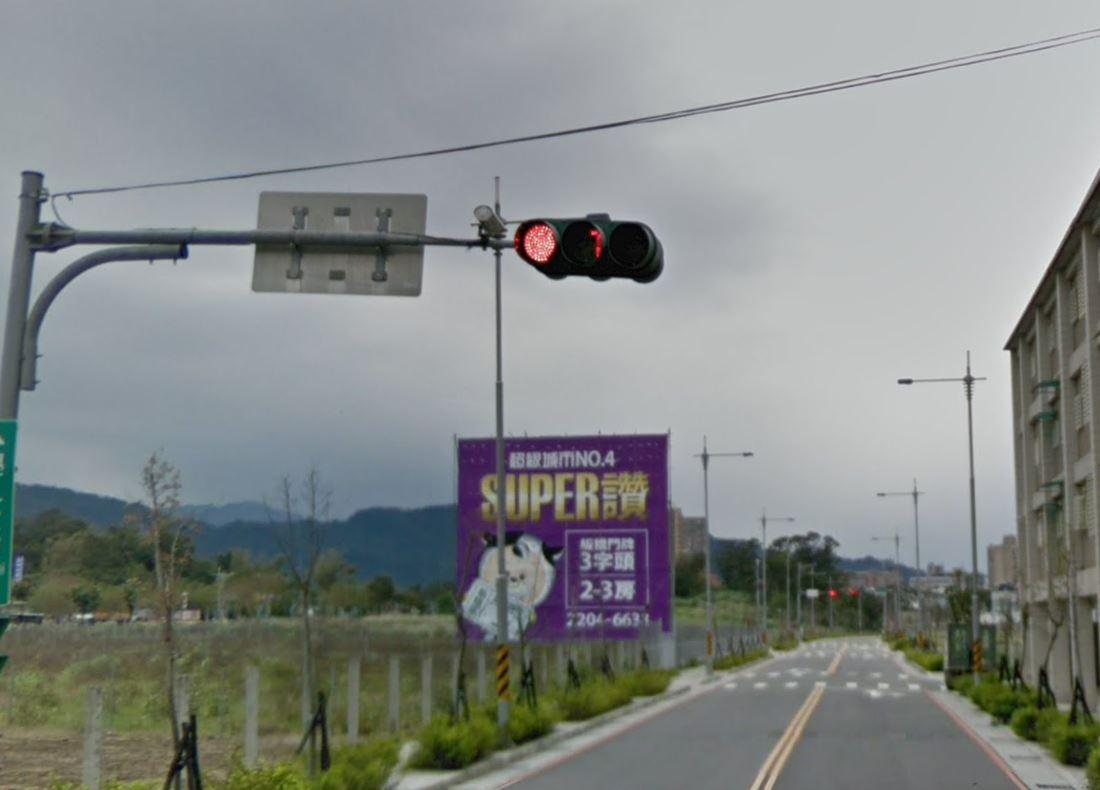red_traffic_light: (510, 212, 667, 282)
